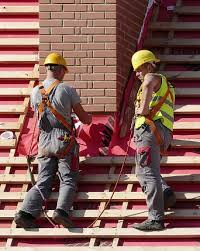helmet: (46, 49, 73, 71), (130, 49, 158, 68)
vest: (137, 83, 178, 128)
